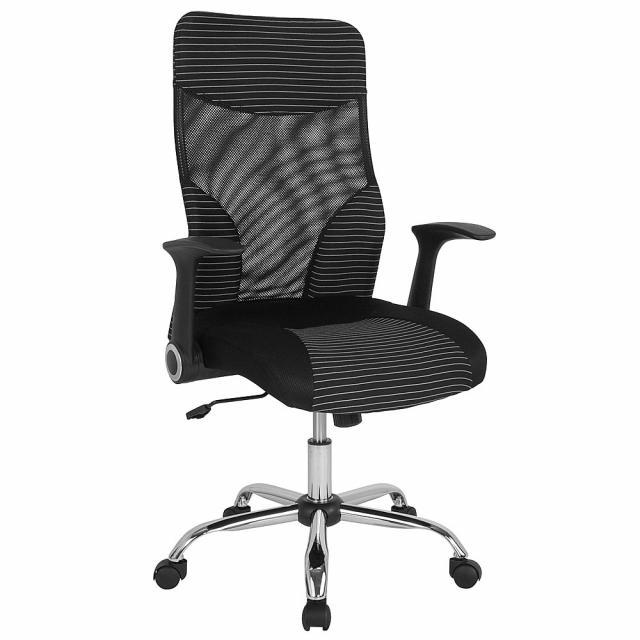chair: (137, 1, 534, 638)
